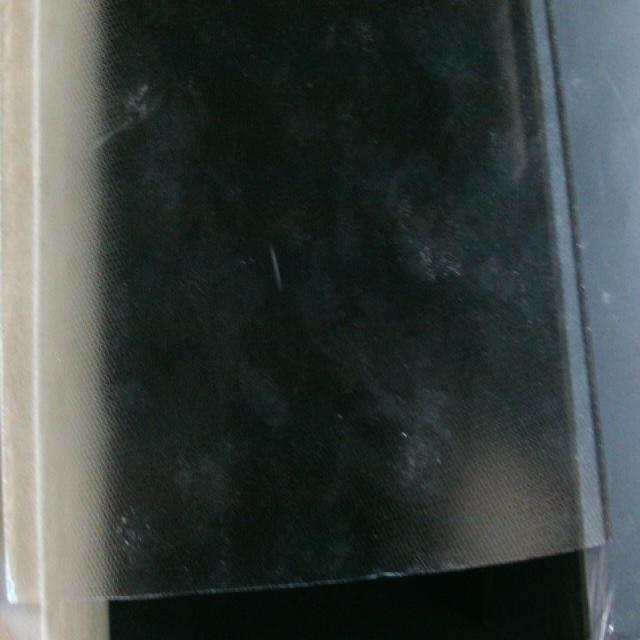edge_chip: (362, 555, 410, 587), (1, 544, 21, 614)
scratch: (260, 228, 288, 300)
